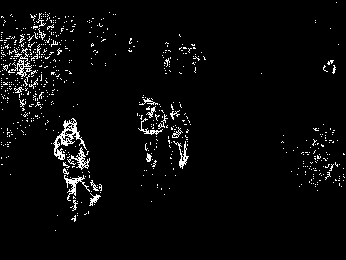person: (52, 119, 102, 222), (132, 93, 164, 168), (170, 97, 196, 173)
